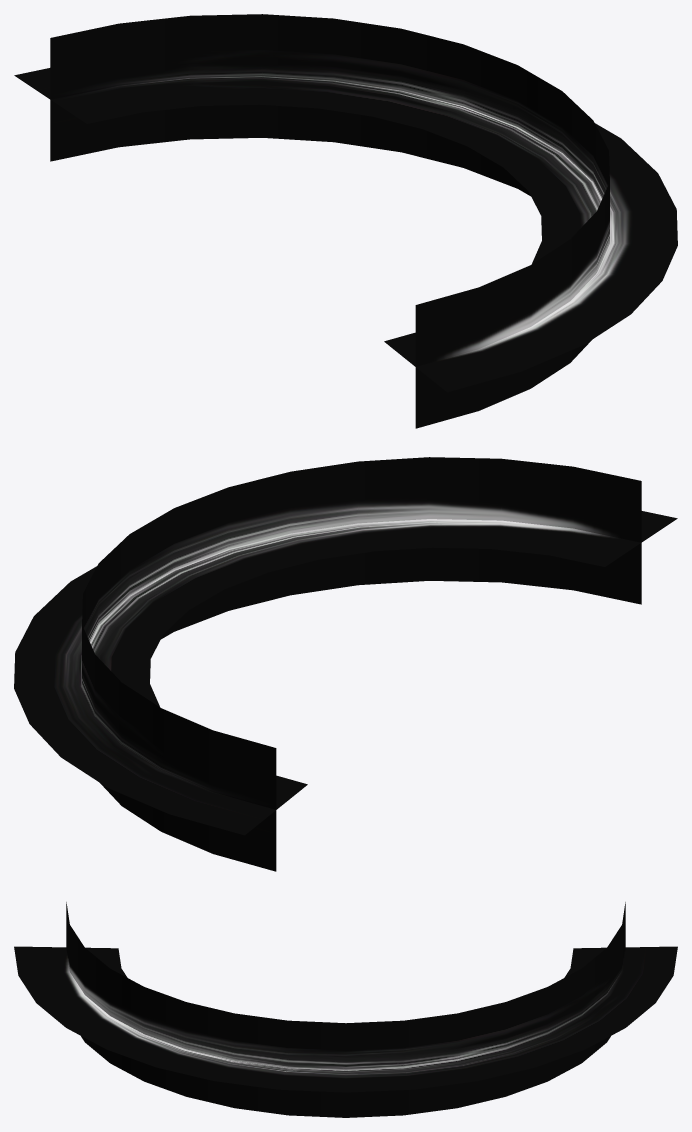
File: FX_lfl_banhuan.FBX
3 renders of one model, top to bottom at view 1: azimuth 30°, elevation 25°; view 2: azimuth 150°, elevation 25°; view 3: azimuth 270°, elevation 25°, orthographic. The views are drawn at different scales.
Parts seen in each view (by area): view 1: Plane002; view 2: Plane002; view 3: Plane002.
Part boxes in pixels (x1,y1,x2,y2): Plane002: [14, 14, 677, 428]; Plane002: [14, 457, 677, 871]; Plane002: [14, 902, 677, 1117].
Size of the model in its own units: 128 by 38.78 by 246.
1 material, 1 textured.
